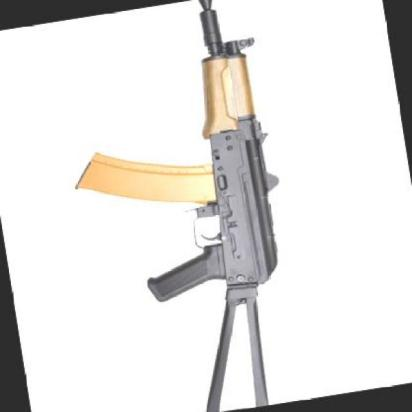Gun: (51, 0, 343, 412)
